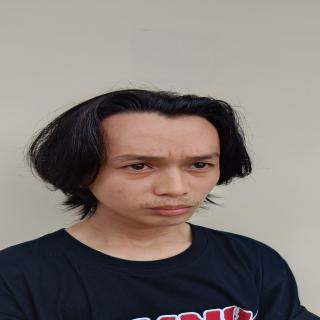Marah: (85, 108, 242, 232)
